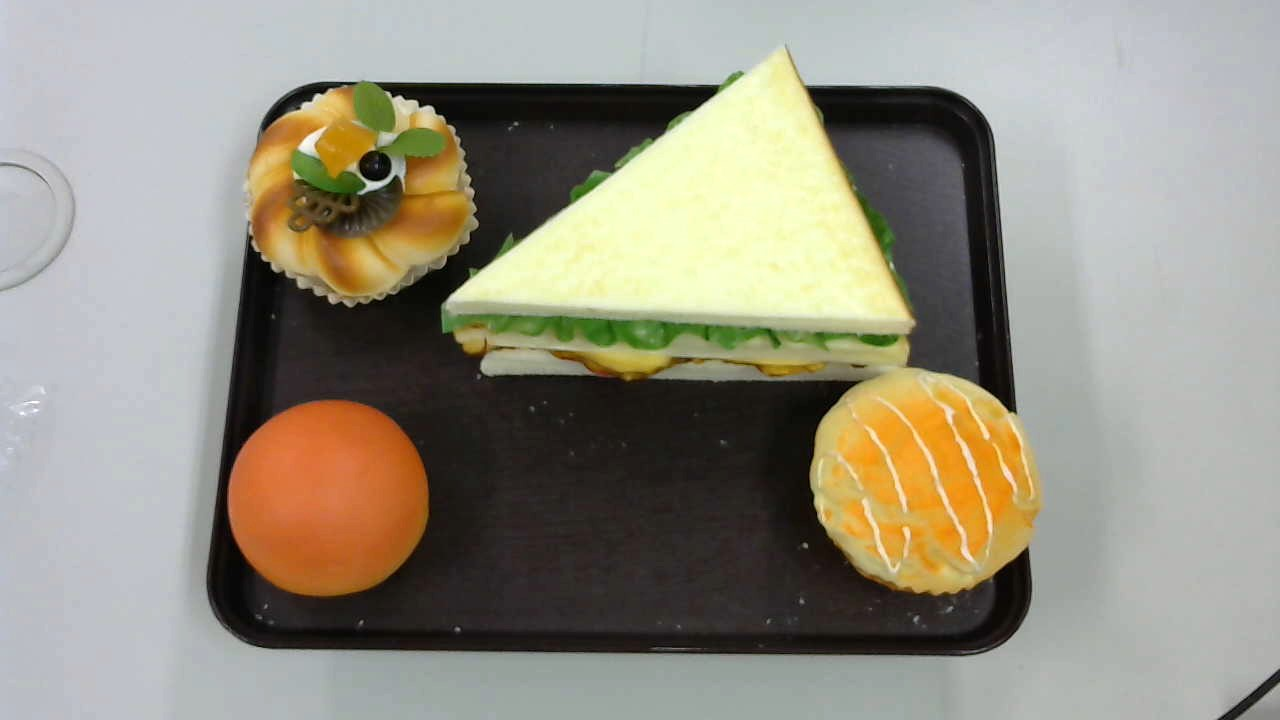bun: (227, 395, 429, 595)
cupcake: (807, 368, 1044, 597)
fruit tart: (243, 81, 477, 305)
sandwich: (439, 43, 915, 388)
